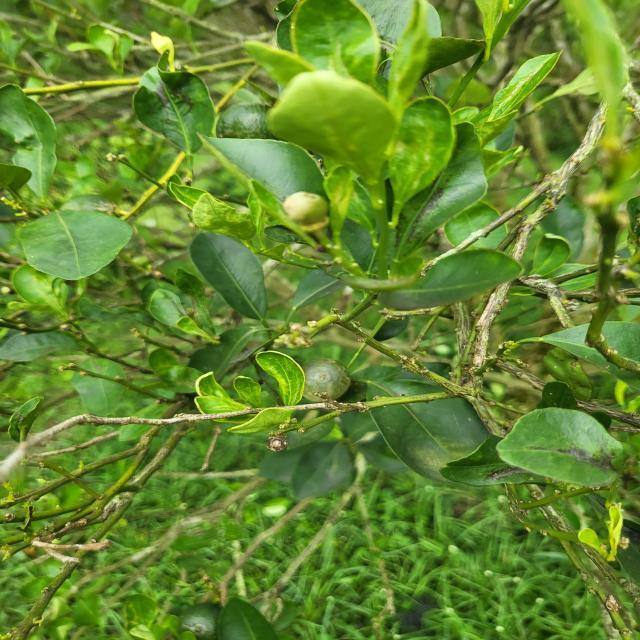thrips: (296, 359, 359, 406)
